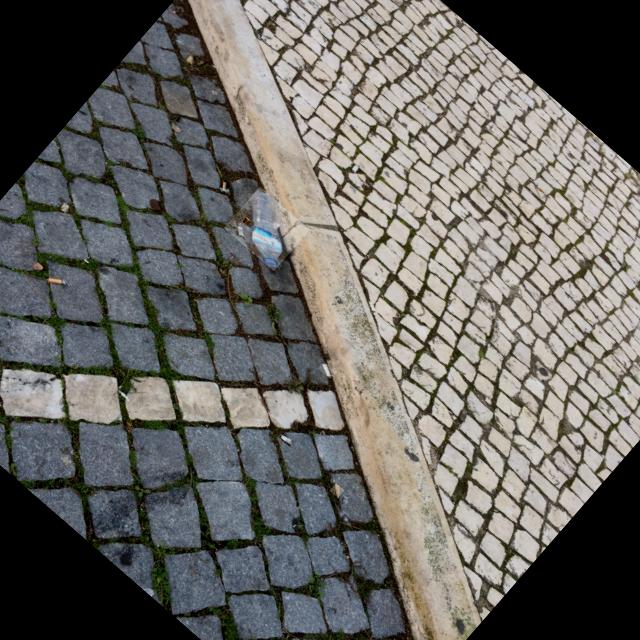Cigarette: (321, 365, 331, 378), (279, 436, 291, 446), (48, 279, 65, 285), (243, 218, 250, 226), (335, 485, 339, 498), (222, 182, 226, 192)
Clear plastic bottle: (252, 193, 283, 269)
